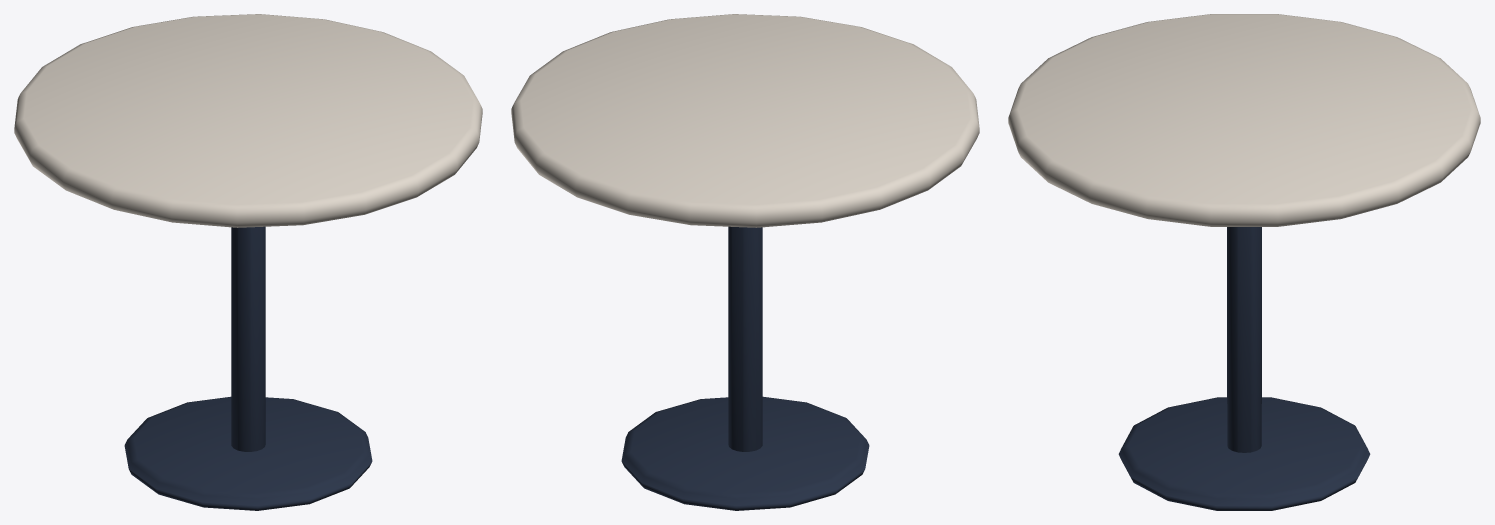
The model's file is f_table.glb.
The picture shows the model from 3 angles, left to right: view 1: azimuth 30°, elevation 25°; view 2: azimuth 150°, elevation 25°; view 3: azimuth 270°, elevation 25°; orthographic projection.
Visible parts, largest first — view 1: f_table; view 2: f_table; view 3: f_table.
Boxes of the visible parts, x1,y1,x2,y2 form: f_table: (14, 14, 482, 510); f_table: (511, 14, 979, 510); f_table: (1008, 14, 1480, 510).
Size of the model in its own units: 1.48 by 1.24 by 1.5.
